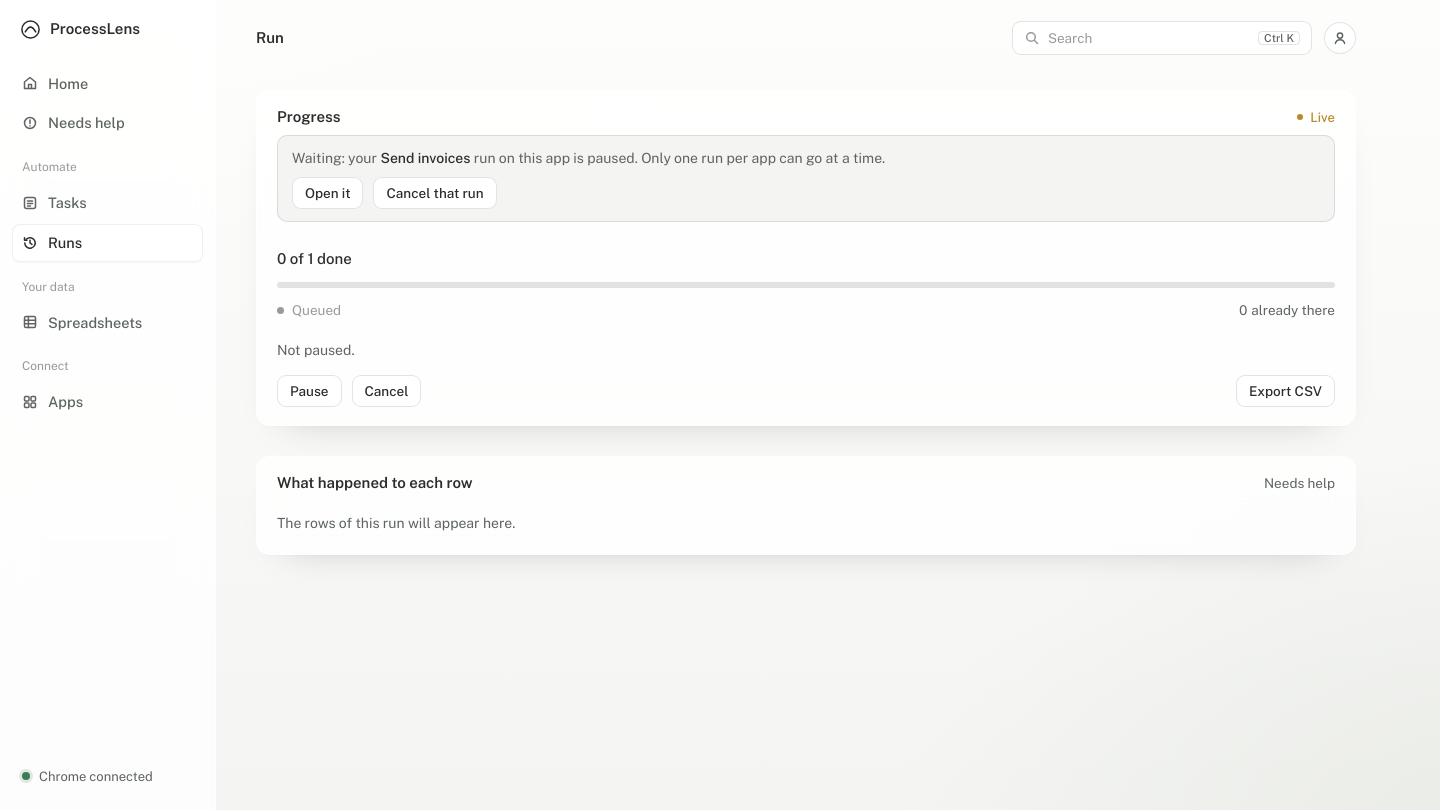
Test: a queued run on the run page › names the paused run ahead, offers to open it, and stops it if the person asks
Expected: the message with class "waiting-run" shows "Waiting: your Send invoices run on this app is paused. Only one run per app can go at a time.", x1=277 y1=134 x2=1335 y2=222
Click the button "Cancel that run" at {"x": 435, "y": 192}, box x1=374 y1=176 x2=497 y2=208
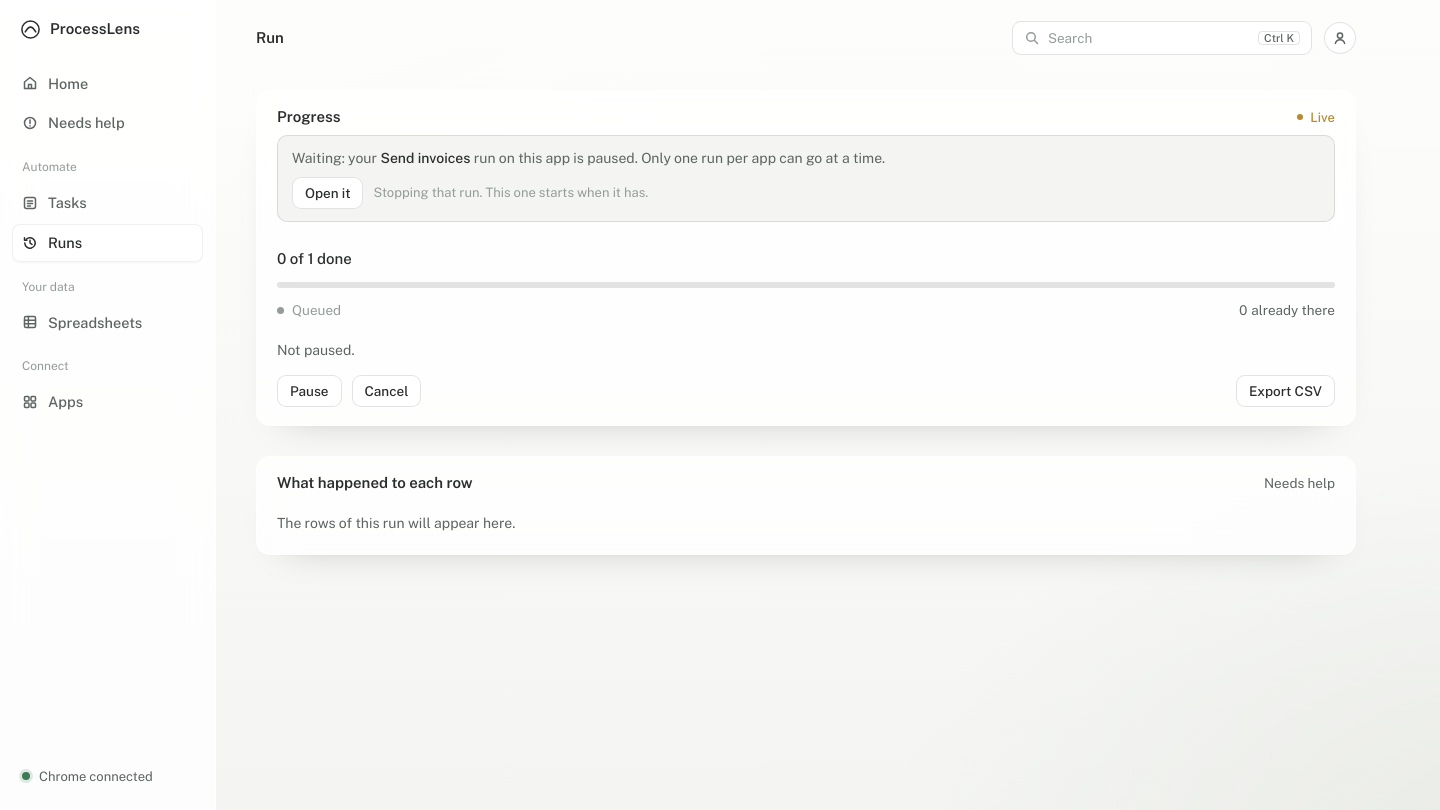
Result: the text "Stopping that run. This one starts when it has." is shown at x1=374 y1=183 x2=648 y2=202
Result: the button "Cancel that run" is gone
